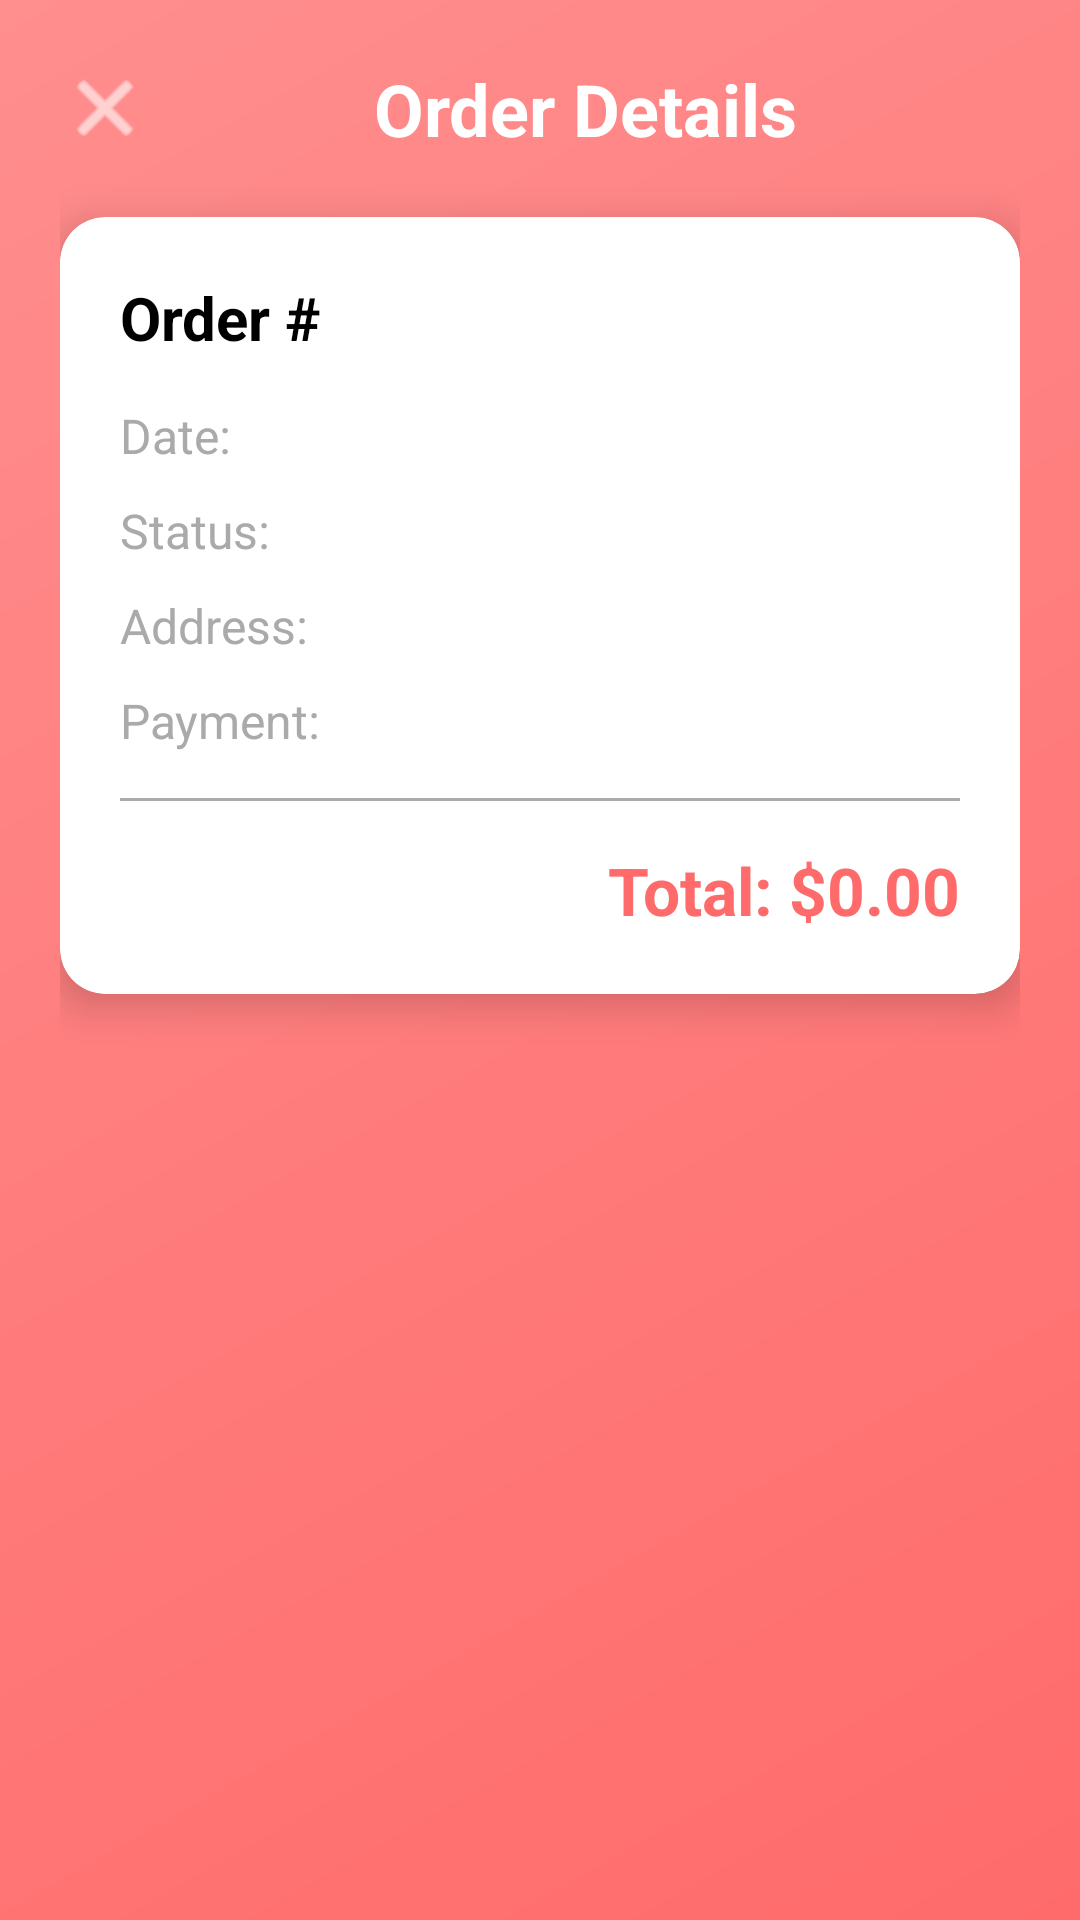

Where to tap for icons on this 1080×1920 app screen, as (x,y):
close clear cancel: (105,108)
